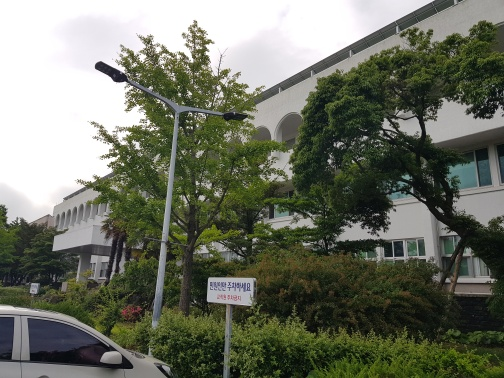Main Building of University: (50, 19, 504, 287)
